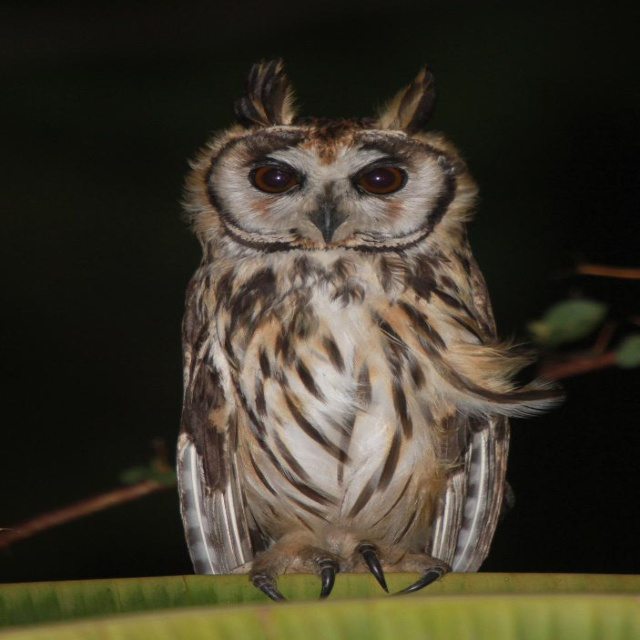Owl: (173, 60, 571, 606)
